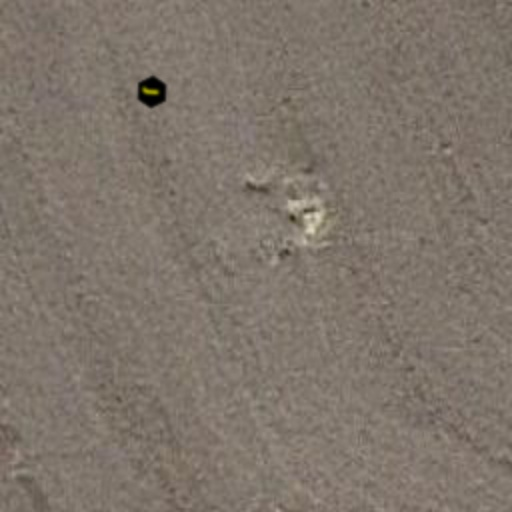hexagon: (134, 74, 170, 110)
